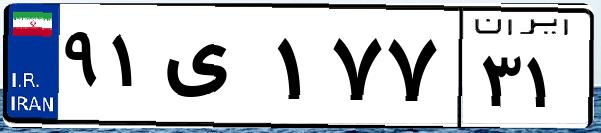1: (270, 28, 330, 110), (525, 38, 570, 115), (110, 28, 158, 98)
3: (475, 38, 525, 113)
7: (385, 28, 445, 110), (330, 28, 385, 110)
9: (57, 26, 110, 100)
ی: (158, 20, 270, 120)
